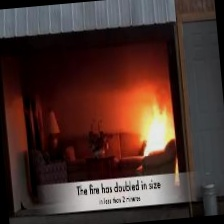fire: (134, 89, 175, 153)
